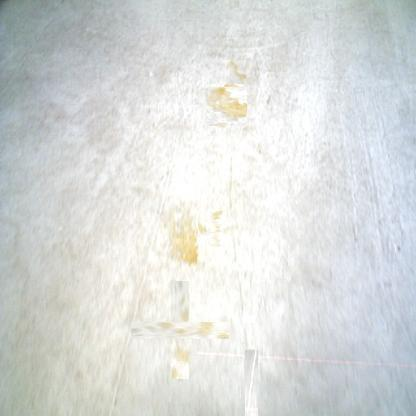liquid: (151, 301, 209, 359), (162, 200, 198, 264), (207, 86, 245, 124), (244, 349, 258, 416), (203, 217, 229, 241), (225, 60, 246, 84)
mark: (265, 93, 272, 107), (395, 243, 402, 253)
